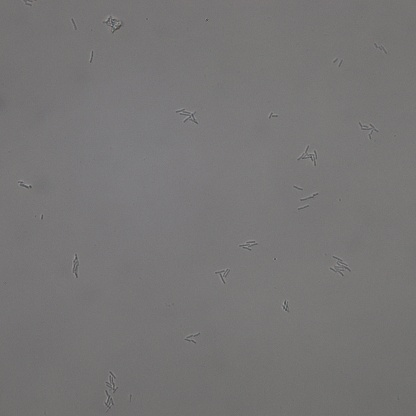R(colony): (329, 254, 352, 276), (298, 145, 319, 166), (360, 120, 379, 141), (175, 108, 199, 124), (105, 371, 119, 392), (215, 267, 231, 285), (103, 394, 115, 413), (239, 240, 258, 251), (184, 331, 200, 344)
